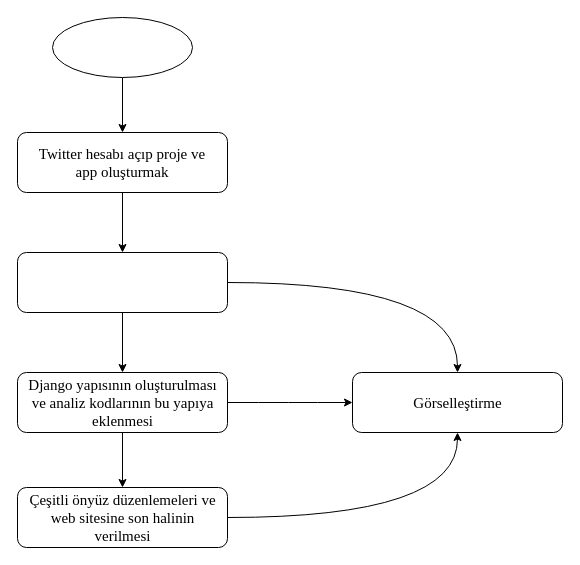
This 580x565 diagram has some shape labels left out. Here are the shapes that lost their labels. From the top down, the centre of each, then its label:
At point (122, 47): "Başla".
At point (122, 282): "Verileri çekmek ve işlemek için Python'la kodların yazılması".
